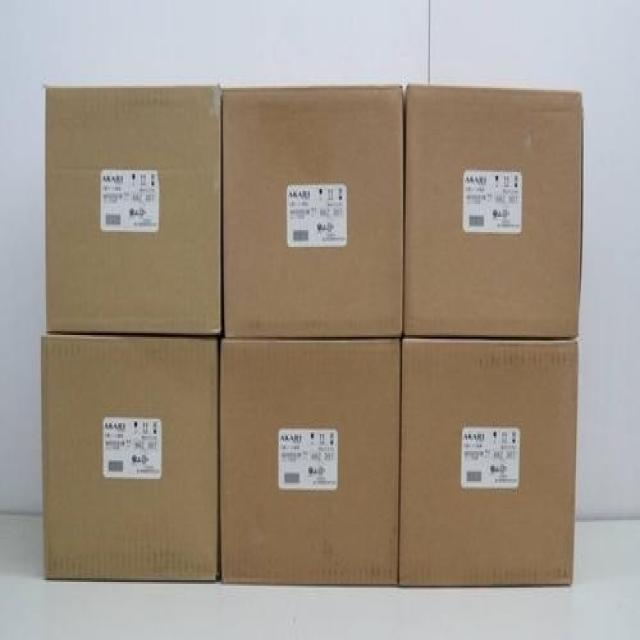box: (220, 83, 404, 338), (403, 83, 582, 336), (220, 339, 399, 590), (44, 84, 223, 334), (399, 340, 577, 587), (41, 335, 219, 581)
